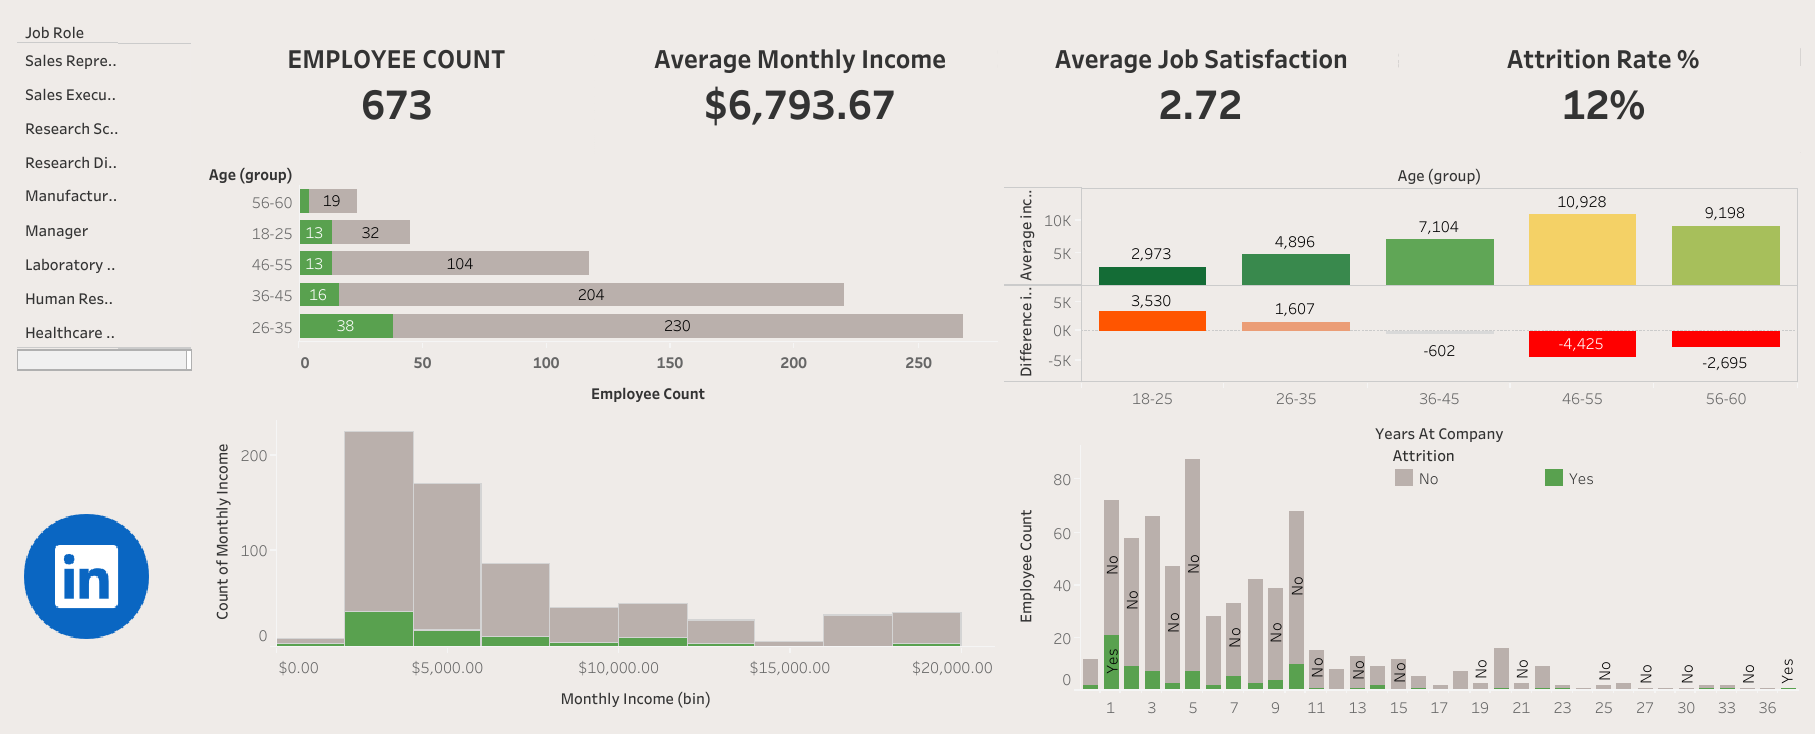

Layout of this report page (visuals, bound fields, positions):
{"tool":"tableau","page":{"name":"Dashboard 1","canvas":[1000,1000],"units":"permille","ordinal":0},"visuals":[{"type":"worksheet","title":"Sheet 9","mark":"Polygon","rows":["JobRole"],"box":[6,11.8,101.6,341.9]},{"type":"worksheet","title":"Total Employee Count","mark":"Automatic","box":[107.4,11.8,222.1,199.8]},{"type":"worksheet","title":"Average Montly Income","mark":"Automatic","box":[329.5,11.8,221.5,199.8]},{"type":"worksheet","title":"Job Satisfaction","mark":"Automatic","box":[551,11.8,221.5,199.8]},{"type":"worksheet","title":"Attrition Rate","mark":"Automatic","box":[772.5,11.8,221.5,199.8]},{"type":"worksheet","title":"Eployee count by age group","mark":"Automatic","cols":["EmployeeCount"],"box":[107.7,211.4,442.9,353.2]},{"type":"worksheet","title":"Average income per age","mark":"Automatic","rows":["Calculation_1162773165418102784","Calculation_1162773165419708418"],"box":[550.6,211.4,443.4,353.2]},{"type":"worksheet","title":"Employee count by income","mark":"Automatic","rows":["MonthlyIncome"],"cols":["Monthly Income (bin)"],"box":[107.7,564.6,442.9,423.7]},{"type":"worksheet","title":"Employee count by years worked","mark":"Automatic","rows":["EmployeeCount"],"cols":["YearsAtCompany"],"box":[550.6,564.6,443.4,423.7]},{"type":"legend","title":"Employee count by years worked","param":"[federated.19e6s7c1corbcx1e9ln971clo9y0].[none:Attrition:nk]","box":[765.8,600.5,207.6,75.2]}]}

Visuals, with their boxes on the dashboard's canvas, which has no fixed pixel size, in thousandths of its width and height (x1, y1, x2, y2). These are canvas units, not pixel positions in the 1815x734 screenshot, which may show the page scaled, cropped or inside an application window:
"Sheet 9" worksheet (Polygon marks): x1=6, y1=12, x2=108, y2=354
"Total Employee Count" worksheet: x1=107, y1=12, x2=330, y2=212
"Average Montly Income" worksheet: x1=330, y1=12, x2=551, y2=212
"Job Satisfaction" worksheet: x1=551, y1=12, x2=772, y2=212
"Attrition Rate" worksheet: x1=772, y1=12, x2=994, y2=212
"Eployee count by age group" worksheet: x1=108, y1=211, x2=551, y2=565
"Average income per age" worksheet: x1=551, y1=211, x2=994, y2=565
"Employee count by income" worksheet: x1=108, y1=565, x2=551, y2=988
"Employee count by years worked" worksheet: x1=551, y1=565, x2=994, y2=988
"Employee count by years worked" legend: x1=766, y1=600, x2=973, y2=676
